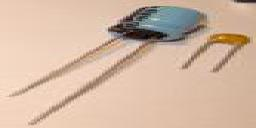Electrolytic-Capacitor: (11, 3, 208, 127), (180, 27, 251, 85)
